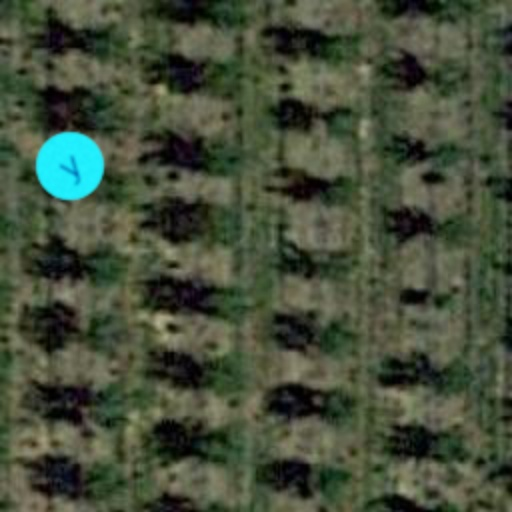circle: (20, 116, 120, 216)
